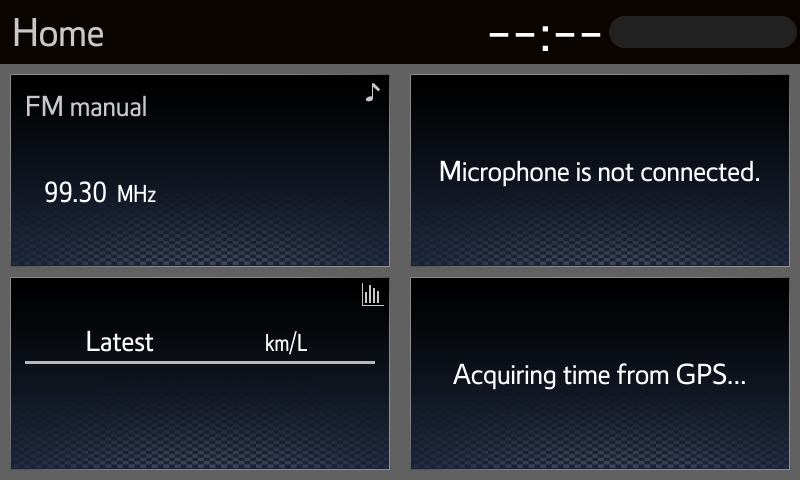touchPart: (9, 279, 389, 471), (11, 75, 389, 267), (412, 76, 790, 266), (413, 279, 789, 468)
untouchPart: (608, 13, 797, 51), (484, 17, 601, 57), (10, 14, 102, 53)
